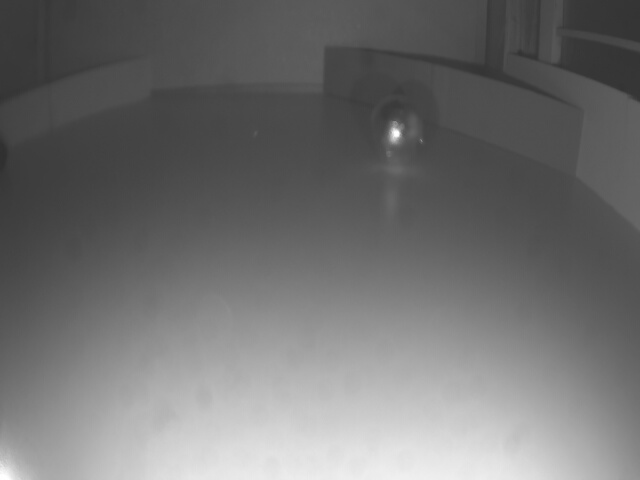Live: (369, 93, 435, 167)
Point: (318, 41, 583, 180), (0, 57, 154, 150)
